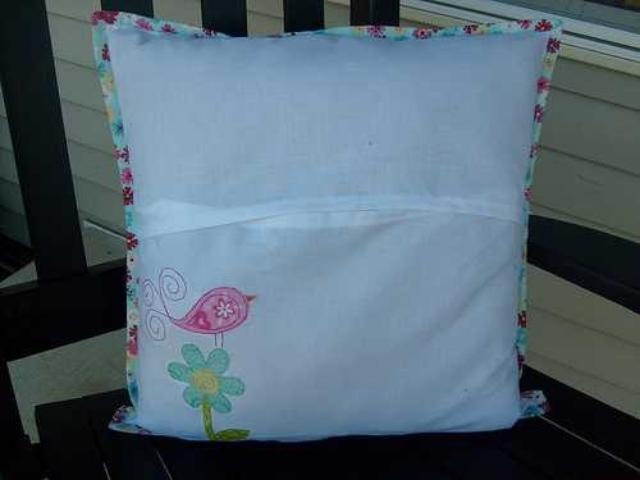pillow: (89, 9, 563, 441)
